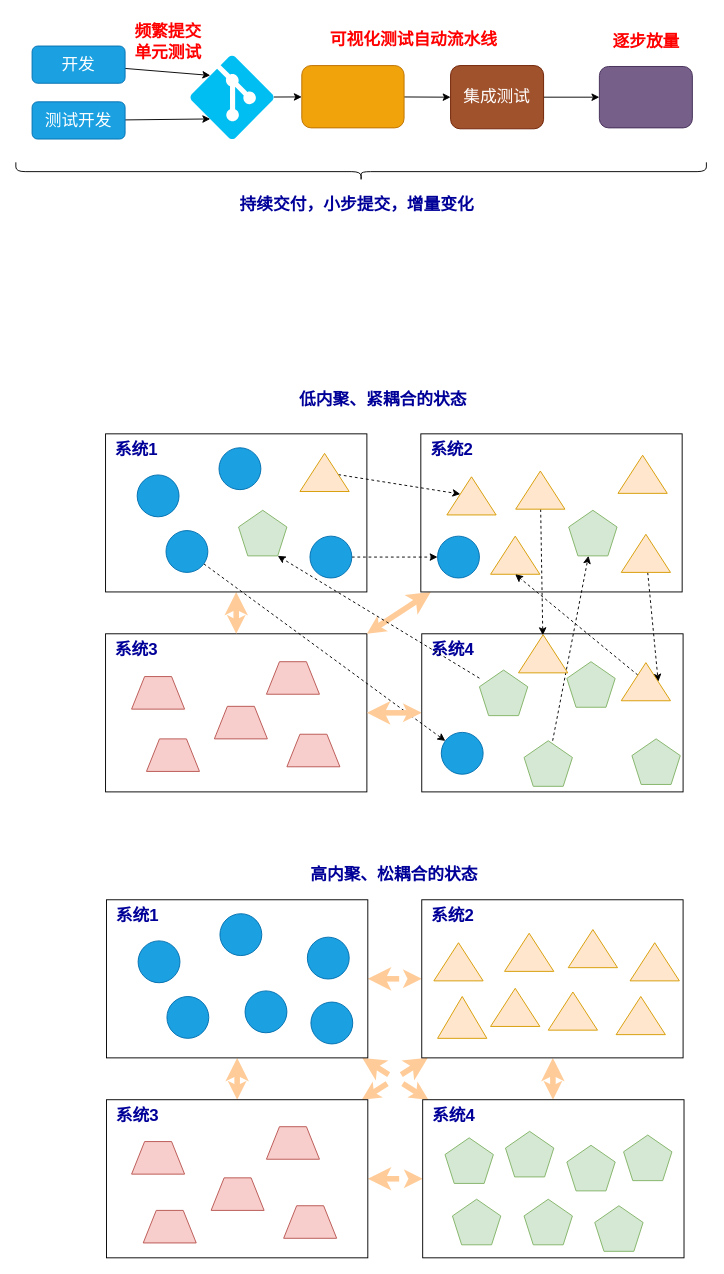
Some shapes in this 724 by 1274 pixel diagram are drawn without their labels. The box of each missing label's shape, as (x1, y1, x2, y2) in pixels:
构建及部署: (301, 65, 404, 128)
灰度发布: (598, 66, 692, 128)
